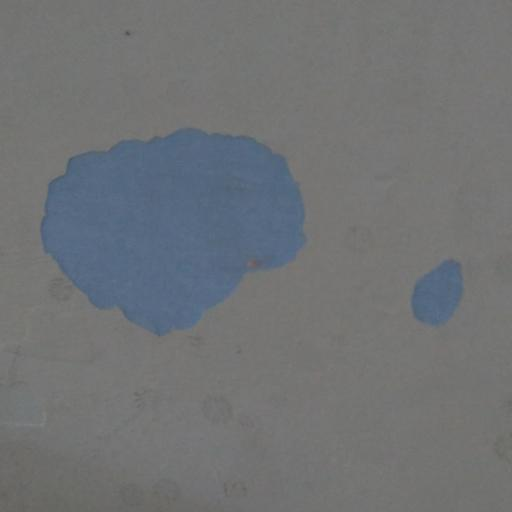peeling: (28, 117, 312, 343), (401, 249, 483, 332)
